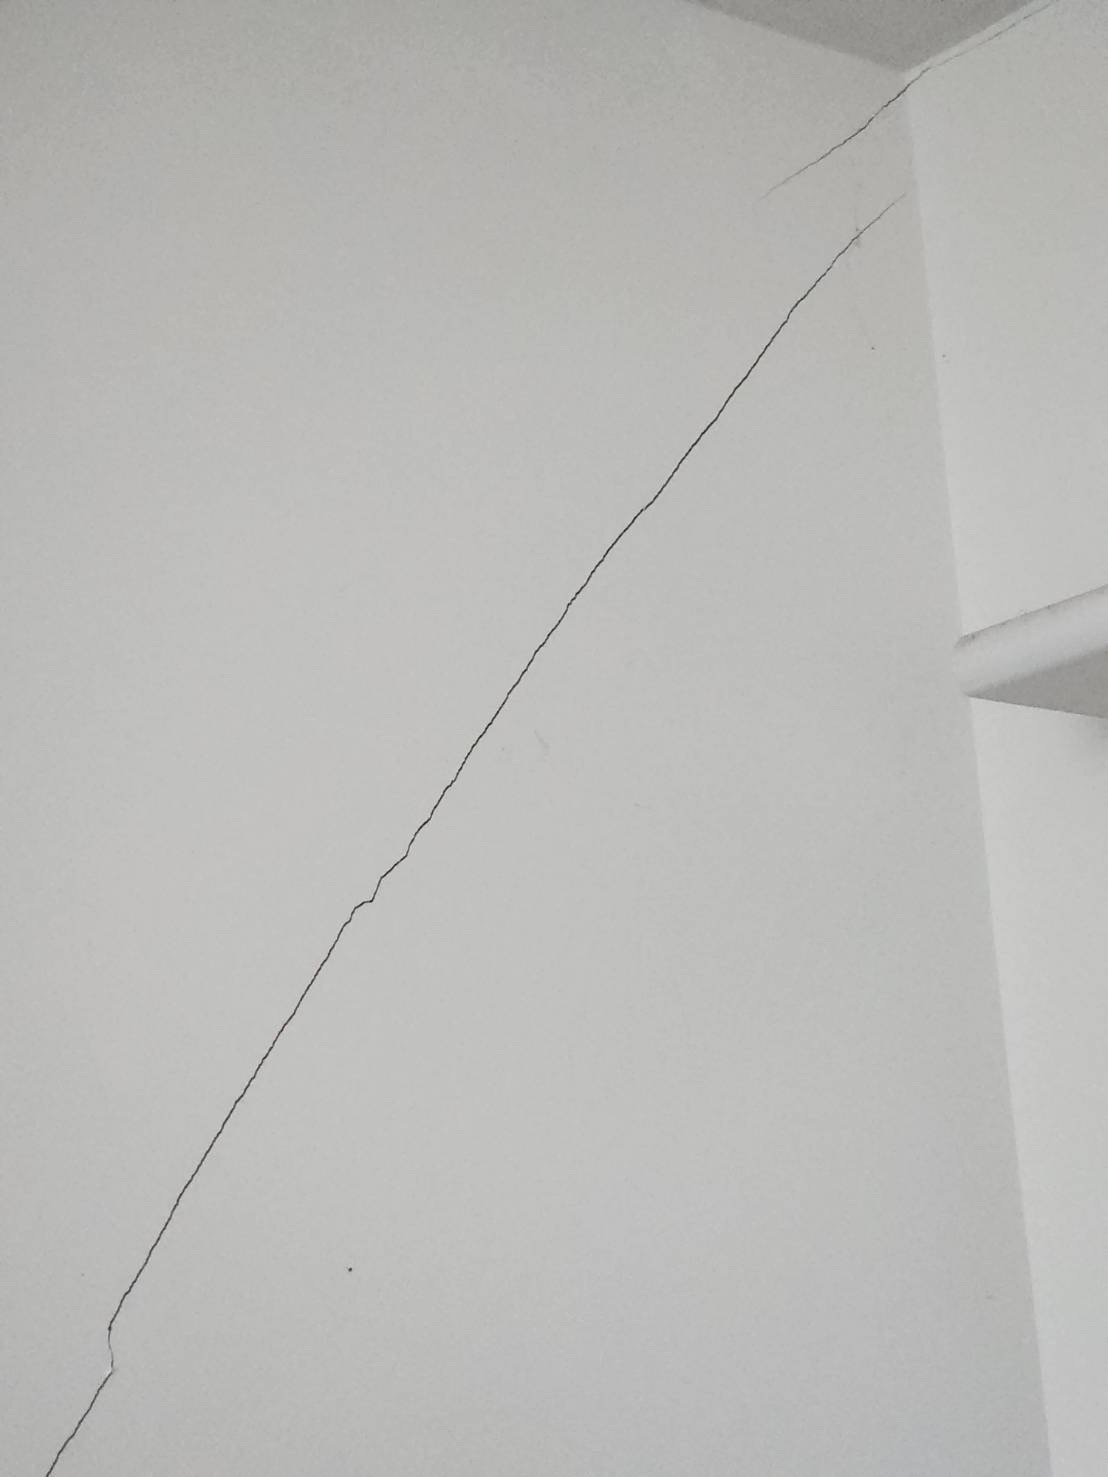Medium: (45, 246, 871, 1474)
